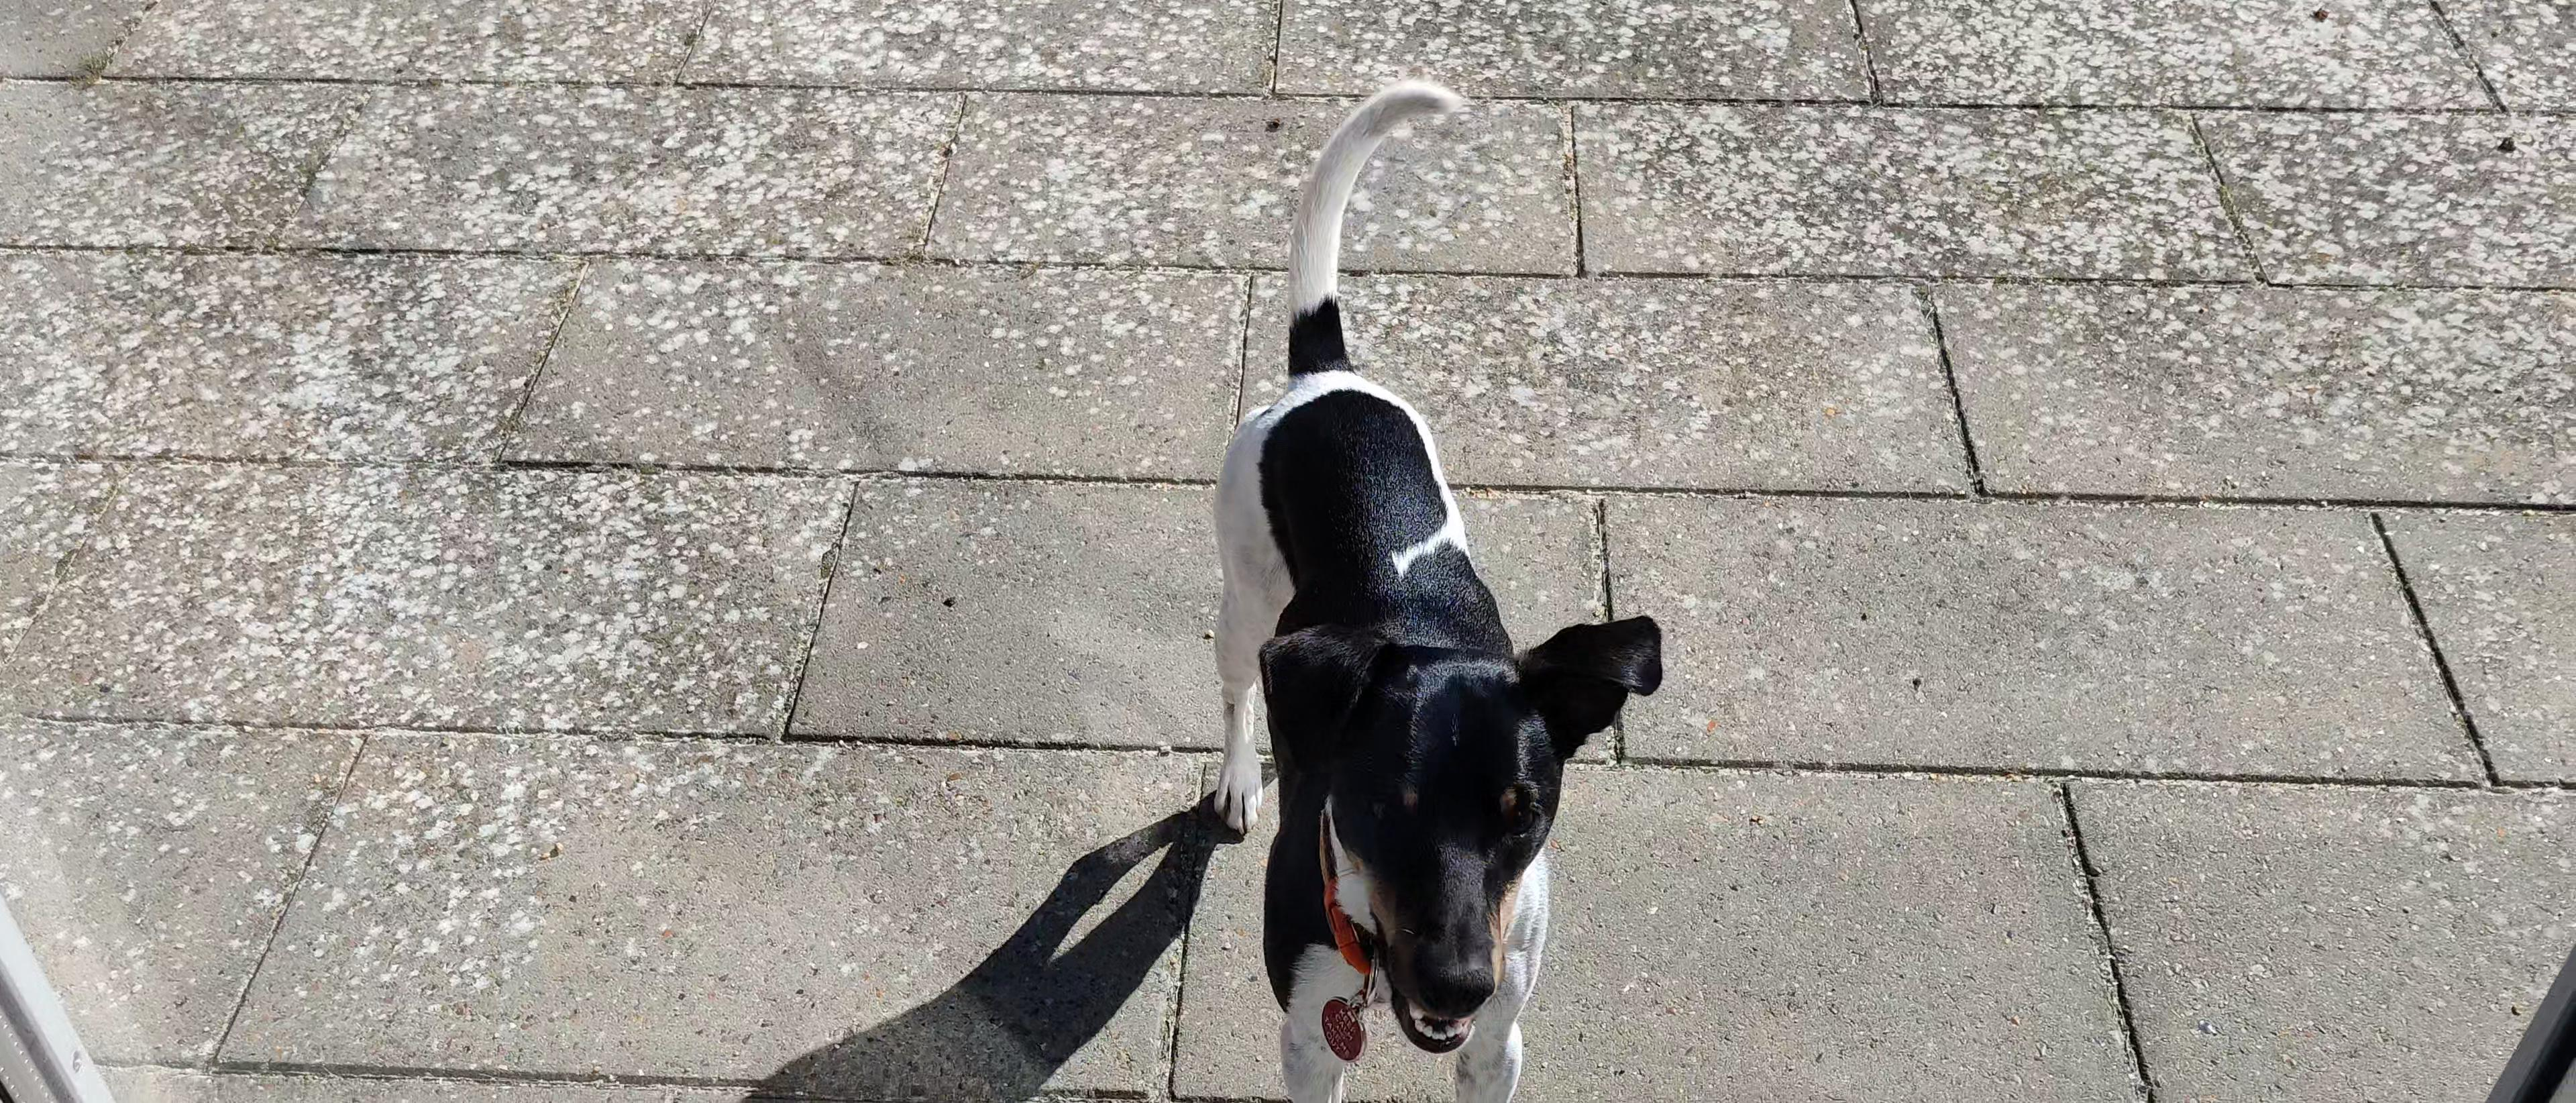Dog: (1157, 66, 1690, 1103)
